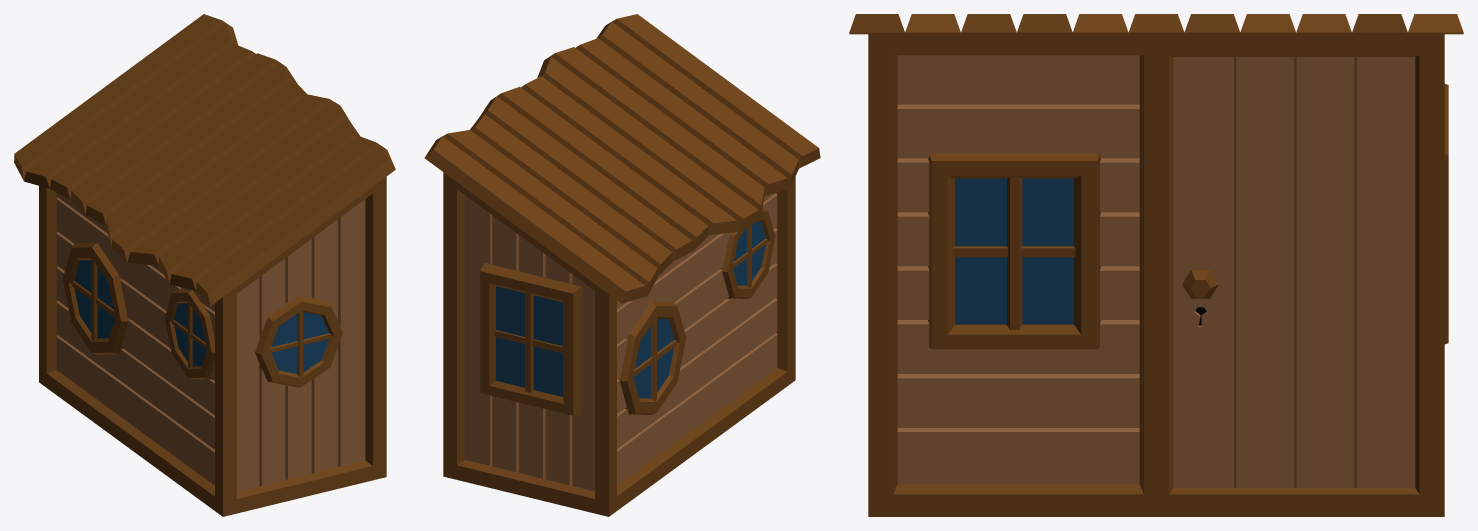
File: DeckHouse.fbx
3 renders of one model, left to right at view 1: azimuth 30°, elevation 25°; view 2: azimuth 150°, elevation 25°; view 3: azimuth 270°, elevation 25°, orthographic. The views are drawn at different scales.
Visible parts, largest first — view 1: DeckHouse; view 2: DeckHouse; view 3: DeckHouse.
Part boxes in pixels (bbox=[...]): DeckHouse: bbox=[14, 14, 395, 516]; DeckHouse: bbox=[424, 14, 820, 516]; DeckHouse: bbox=[849, 14, 1463, 516].
Bounding box in the file's own units: 134 × 196 × 213.
